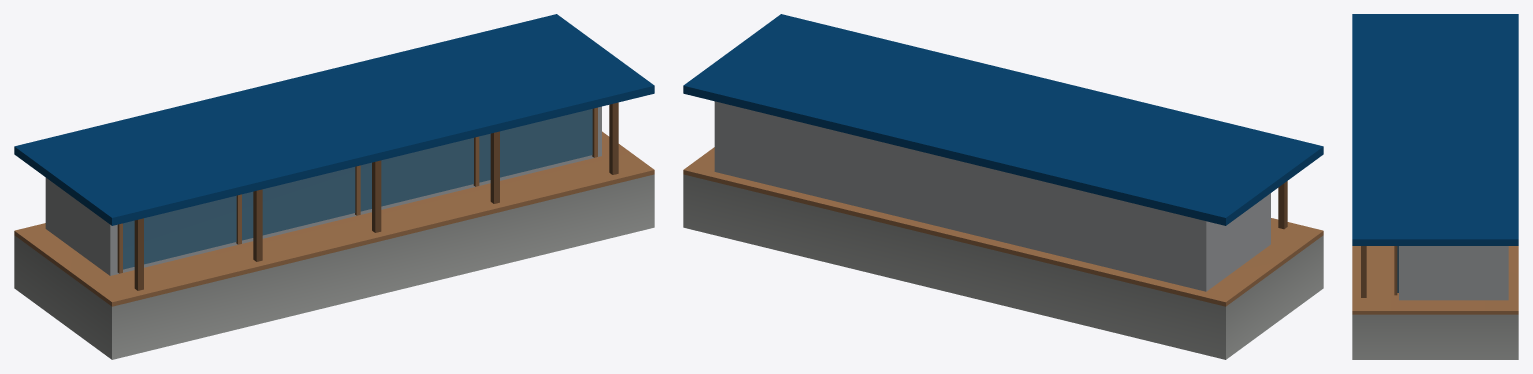
The model's file is residents-clubhouse.glb.
The picture shows the model from 3 angles, left to right: view 1: azimuth 30°, elevation 25°; view 2: azimuth 150°, elevation 25°; view 3: azimuth 270°, elevation 25°; orthographic projection. The views are drawn at different scales.
Visible parts, largest first — view 1: residents-clubhouse; view 2: residents-clubhouse; view 3: residents-clubhouse.
Part boxes in pixels (x1,y1,x2,y2): residents-clubhouse: (14, 14, 654, 359); residents-clubhouse: (683, 14, 1323, 359); residents-clubhouse: (1352, 14, 1518, 359).
Size of the model in its own units: 32 by 8 by 10.
